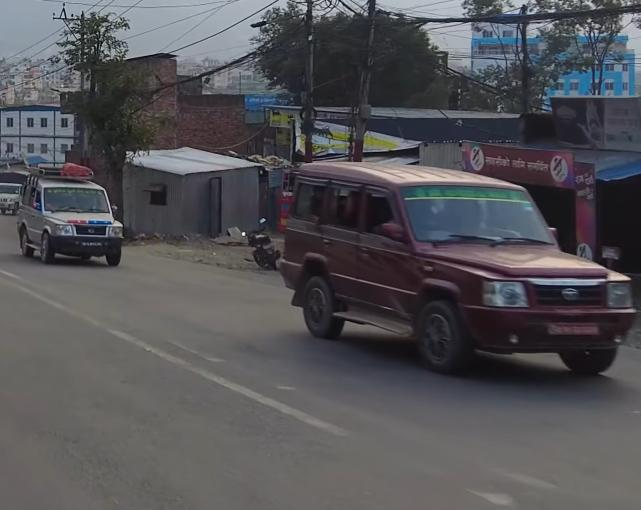SUV: (281, 153, 641, 379), (22, 155, 132, 270)
